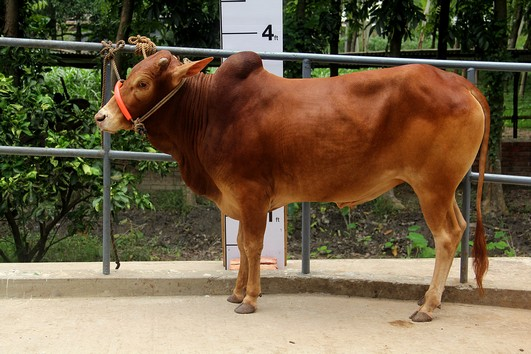cow: (85, 41, 492, 333)
